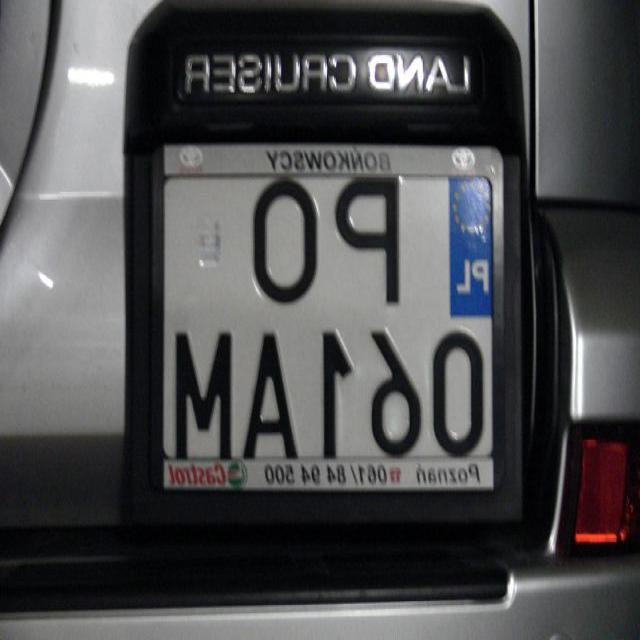pl_license_plate: (164, 177, 493, 460)
